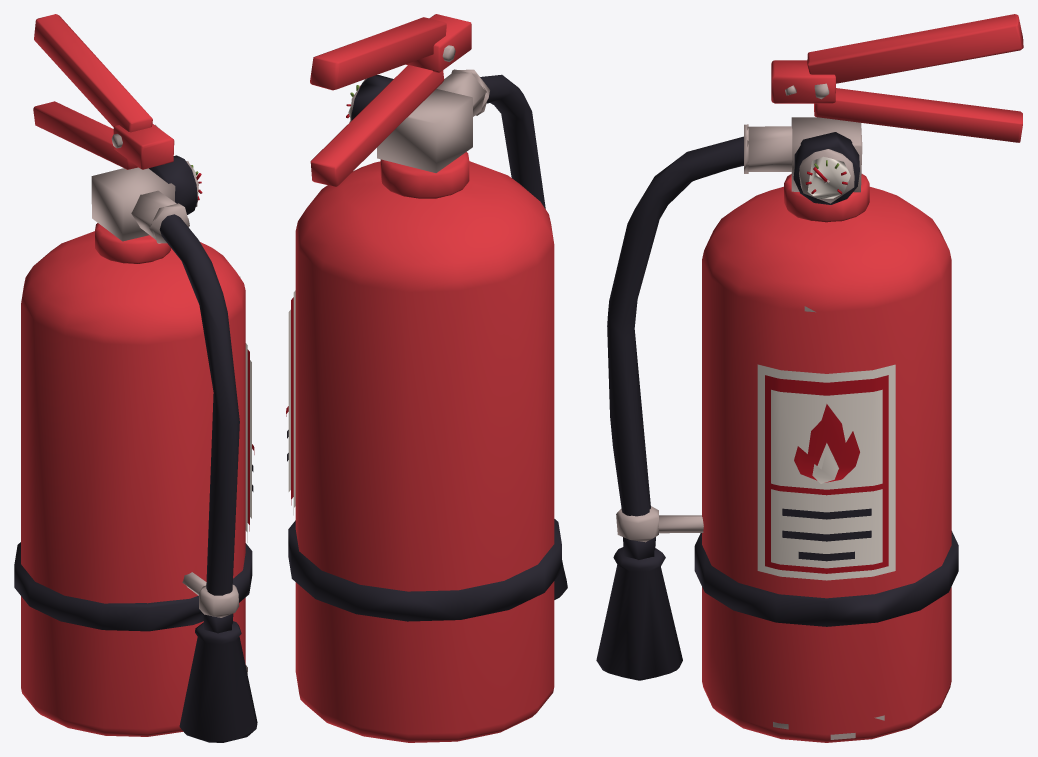
3 views of the same model, side by side, from view 1: azimuth 30°, elevation 25°; view 2: azimuth 150°, elevation 25°; view 3: azimuth 270°, elevation 25° (orthographic). The views are drawn at different scales.
Size of the model in its own units: 0.4121 by 1.14 by 0.6507.
